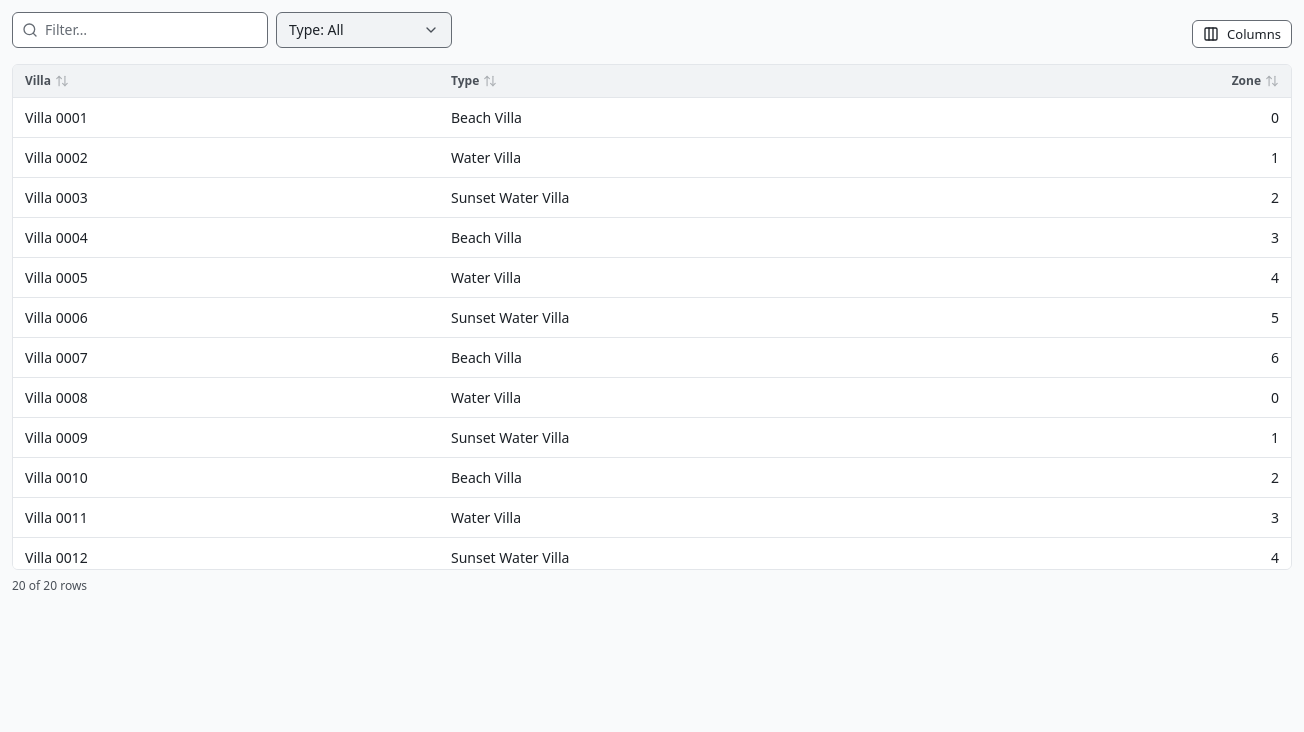
Test: DataTable › sorts from the column header and exposes aria-sort
Click the column heading "Villa": (226, 81) [13,65,439,97]
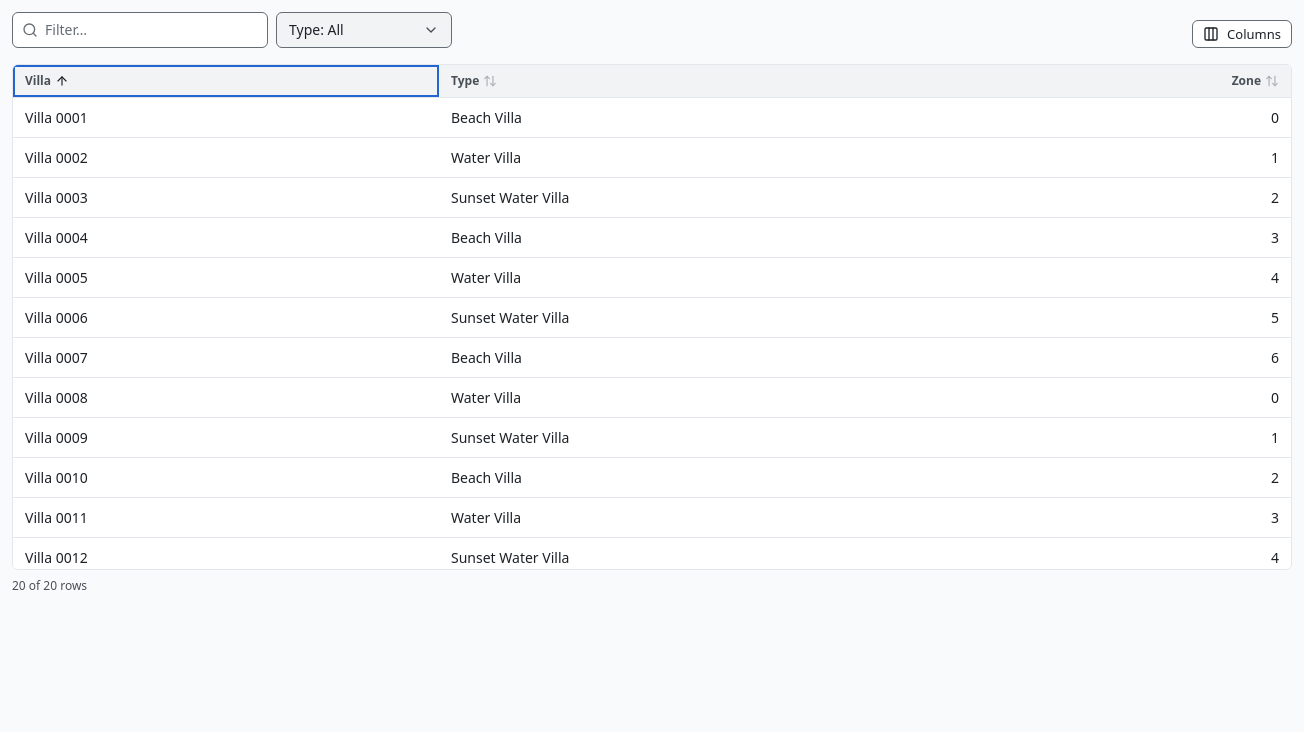
Check: the column heading "Villa" has attribute aria-sort="ascending"
Click the column heading "Villa": (226, 81) [13,65,439,97]
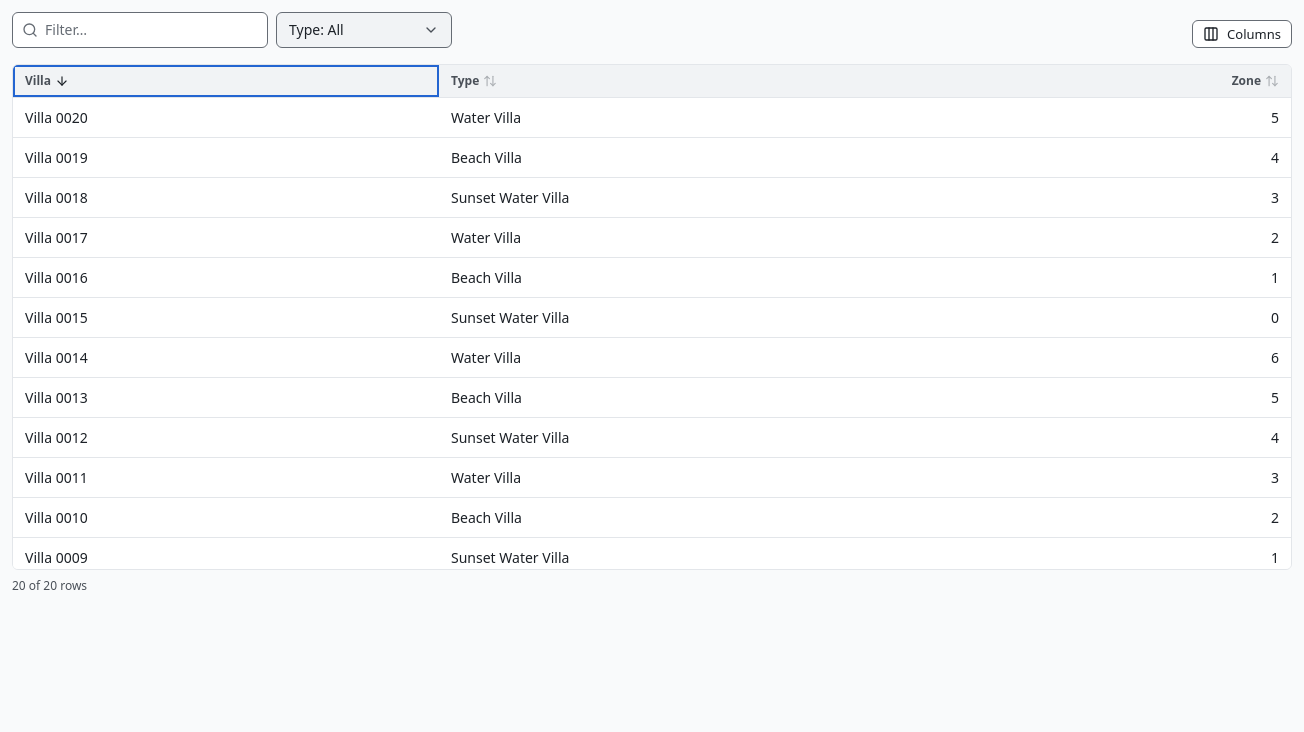
Check: the cell "Villa 0020" is shown, box [13,98,439,137]
